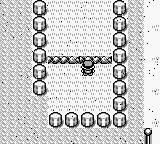main: (81, 60, 95, 76)
no-caminable: (48, 0, 128, 128), (32, 0, 48, 96)
salto: (48, 56, 112, 63)
